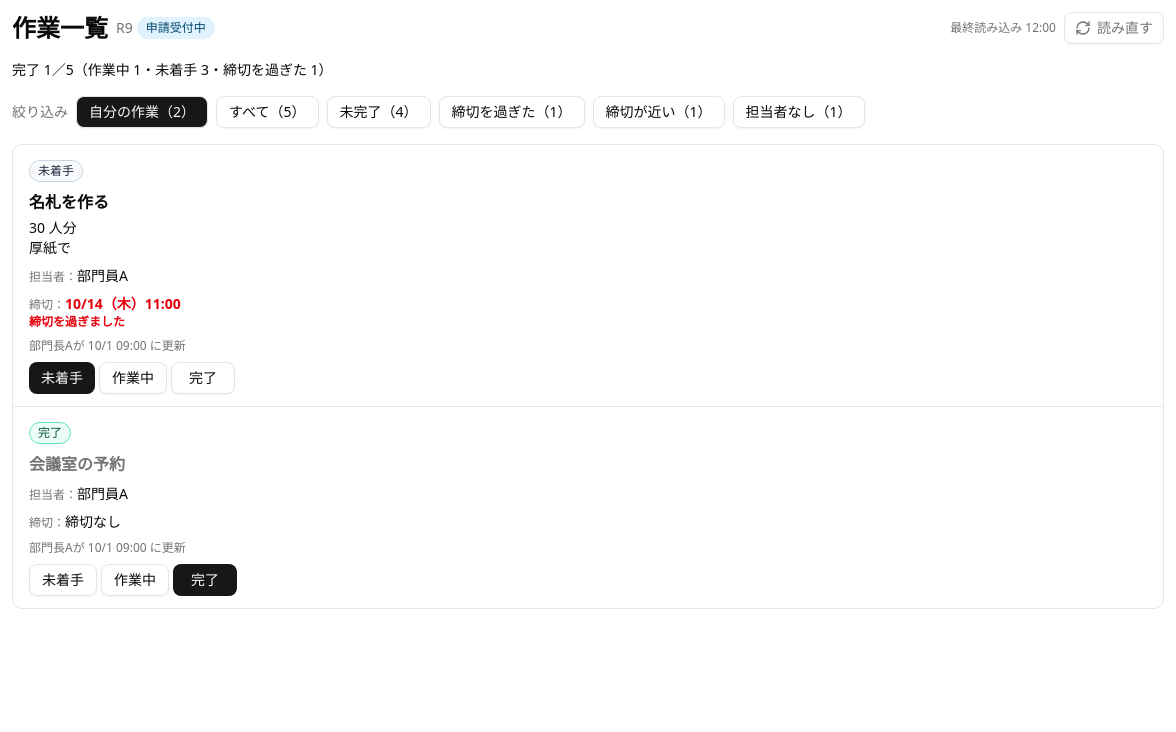
Test: T20 作業一覧：状態のボタン（set_task_status） › 押すと読んだときの updated_at で送り、「「{題名}」を{状態}にしました」。一覧の状態が変わる
Expected: the list item with test id "tasks-item" that starts with "未着手" is shown, [13,145,1163,407]
Click the button with test id "task-set-doing".
click(133, 378)  # box [99,362,167,394]
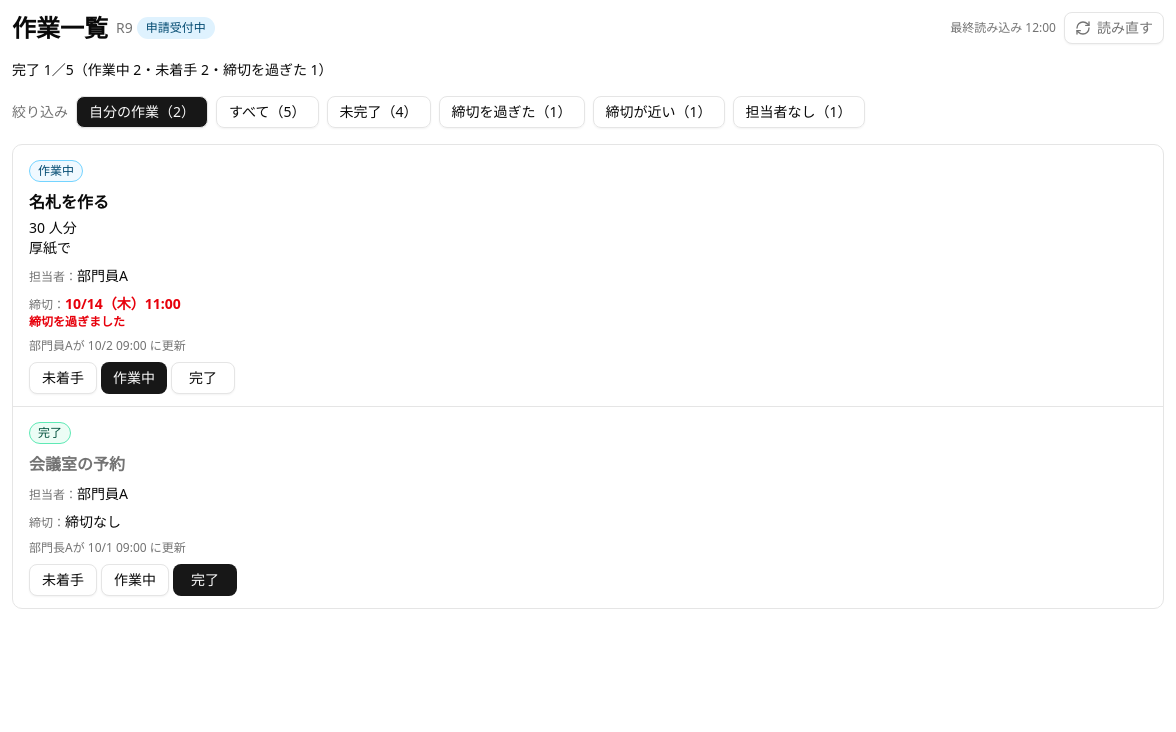
Expected: the button with test id "task-set-doing" is disabled, [101,362,167,394]
